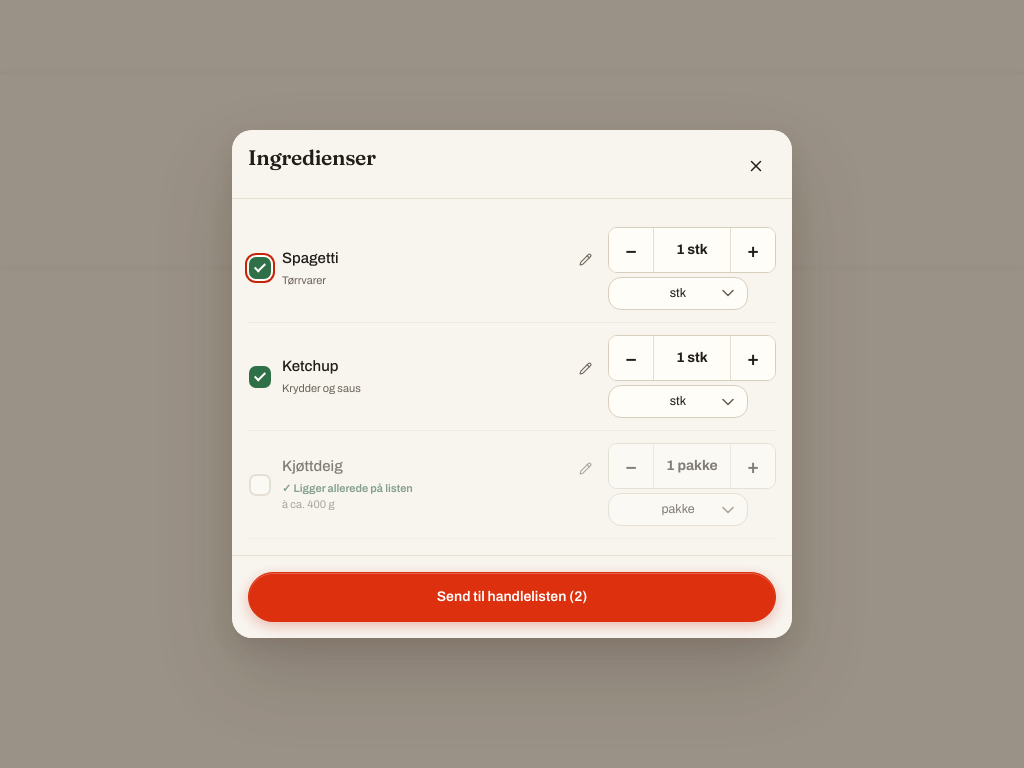
Gjennomgangen: det som alt ligger på listen › kan hukes på igjen om man vil ha mer
The width and height of the screenshot is (1024, 768).
Click the checkbox named "Kjøttdeig" at (260, 485), box [248,474,270,496]
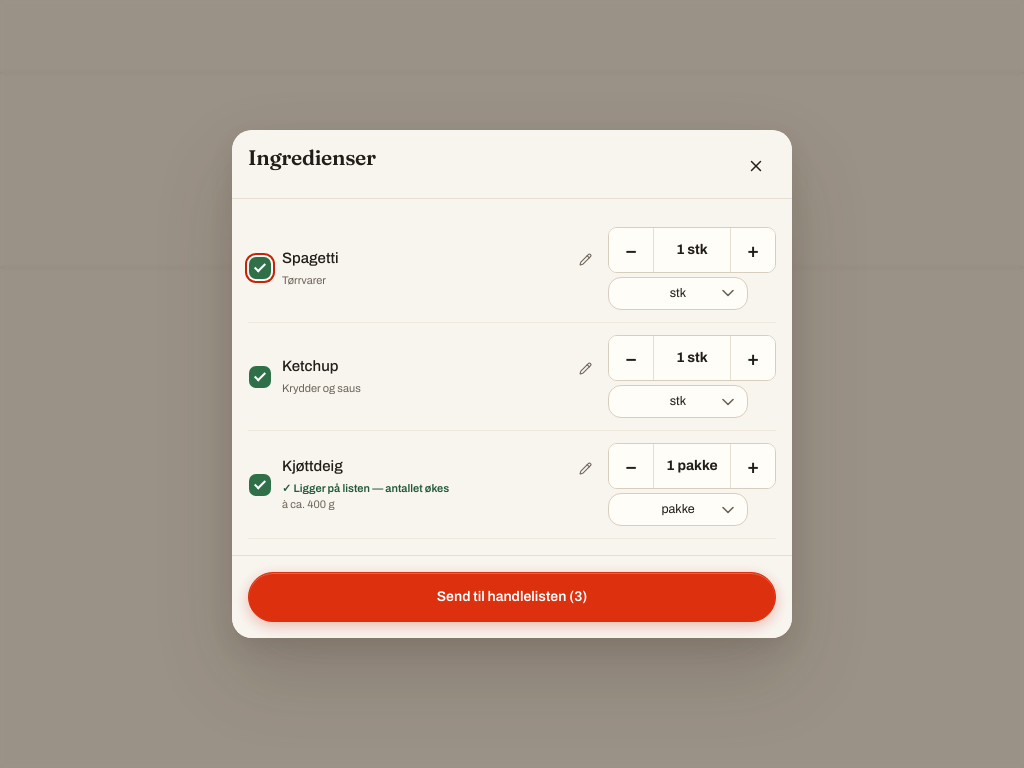
Result: the button "Send til handlelisten (3)" is shown at [248,572,776,622]
